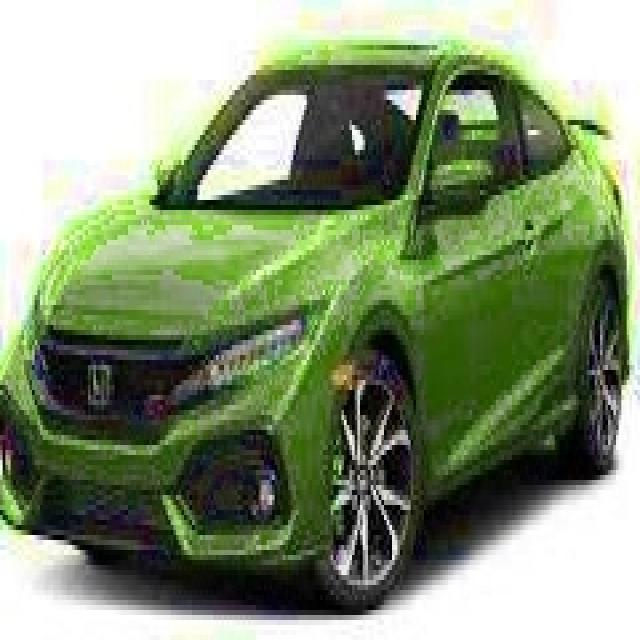green: (0, 38, 635, 608)
